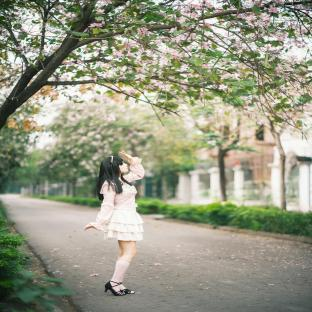Human: (83, 151, 145, 295)
